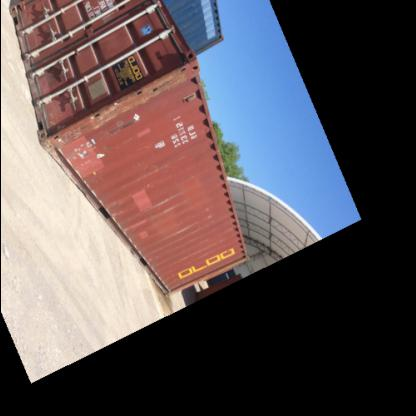Damage: (46, 101, 145, 171), (120, 57, 192, 100), (145, 190, 185, 220), (162, 226, 204, 246), (127, 168, 170, 186), (123, 216, 150, 240), (200, 206, 219, 224), (154, 138, 168, 154)
